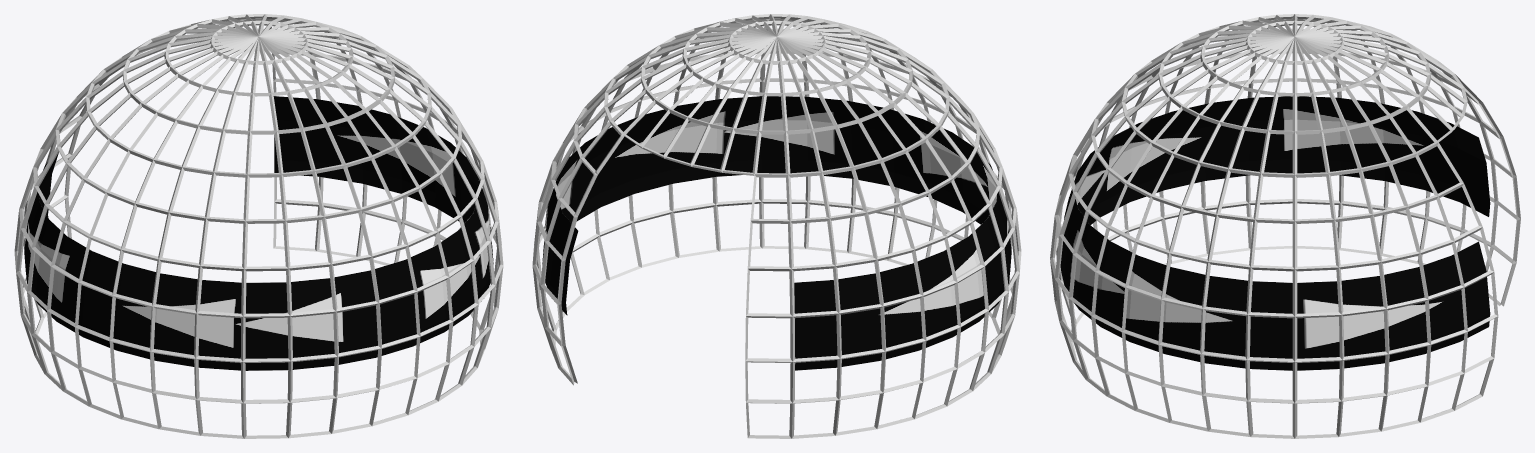
File: innerVehicle.fbx
3 renders of one model, left to right at view 1: azimuth 30°, elevation 25°; view 2: azimuth 150°, elevation 25°; view 3: azimuth 270°, elevation 25°, orthographic.
Visible parts, largest first — view 1: outter, inner; view 2: outter, inner; view 3: outter, inner.
Part boxes in pixels (left/top/right/bottom): outter: left=14, top=14, right=503, bottom=438; inner: left=24, top=96, right=493, bottom=370; outter: left=532, top=14, right=1021, bottom=438; inner: left=542, top=96, right=1011, bottom=370; outter: left=1050, top=14, right=1520, bottom=438; inner: left=1060, top=96, right=1490, bottom=370.
Size of the model in its own units: 208 by 144 by 200.
